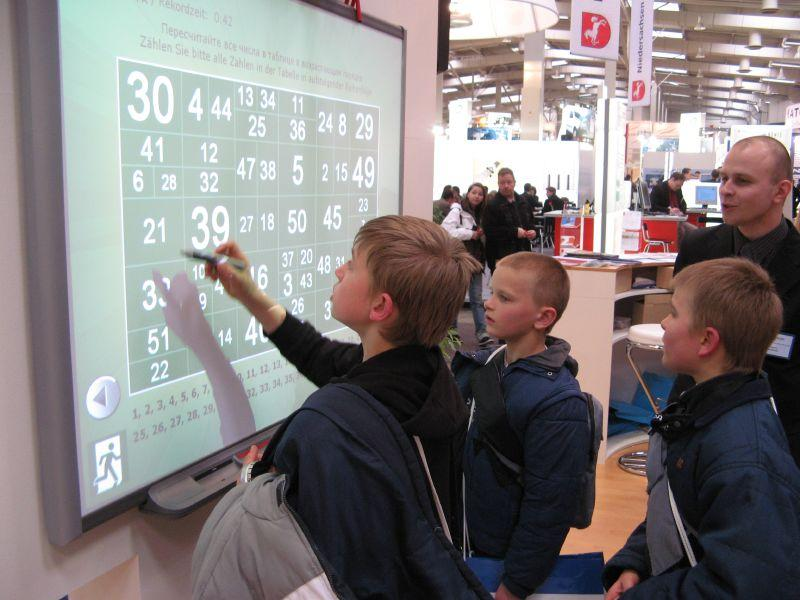person: (210, 214, 483, 561)
